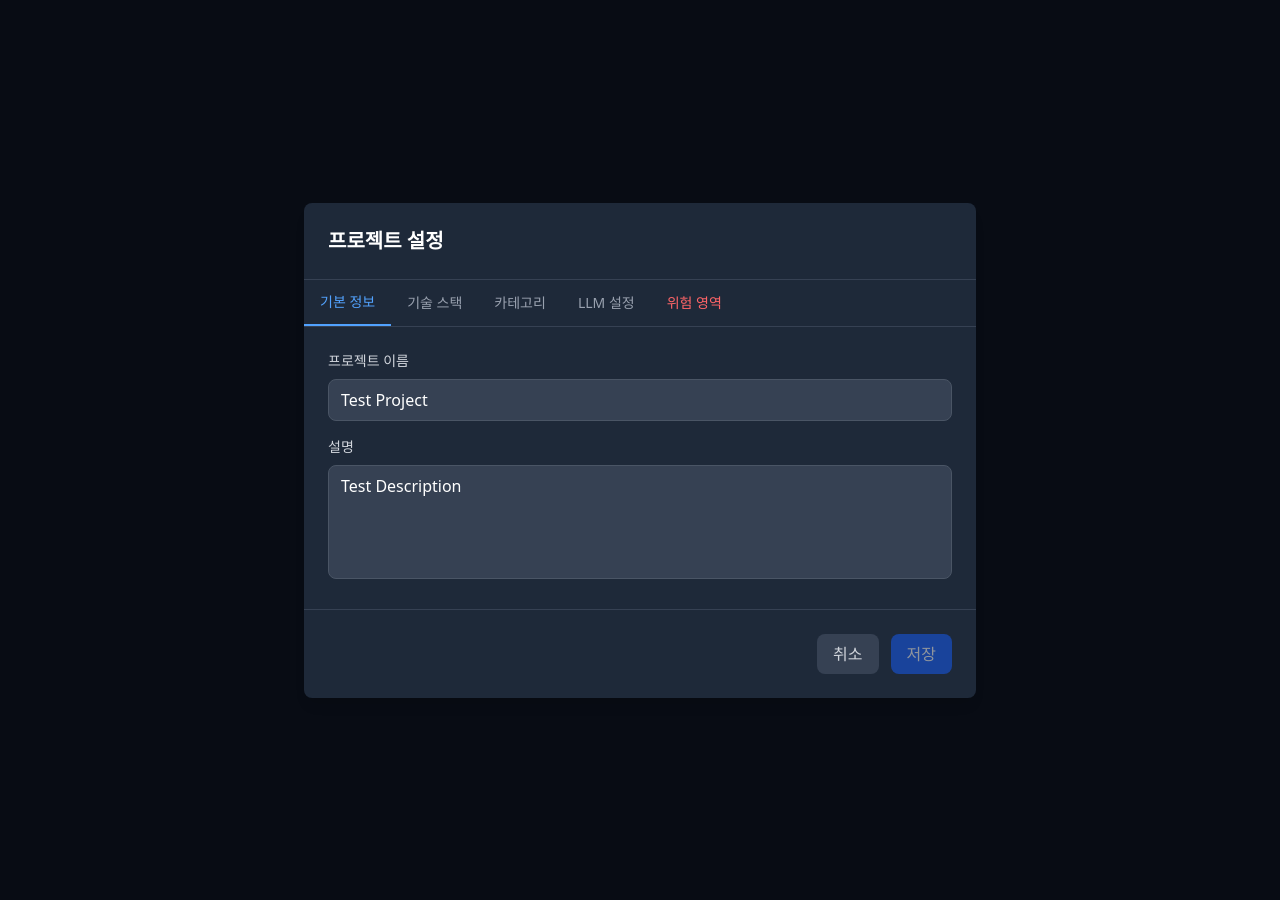
it: ProjectSettingsModal › Tech Stack Tab › should add tech stack when using suggestion button
The image size is (1280, 900).
Step 1. Click the tab "기술 스택" → (435, 302), box [391,280,478,326]
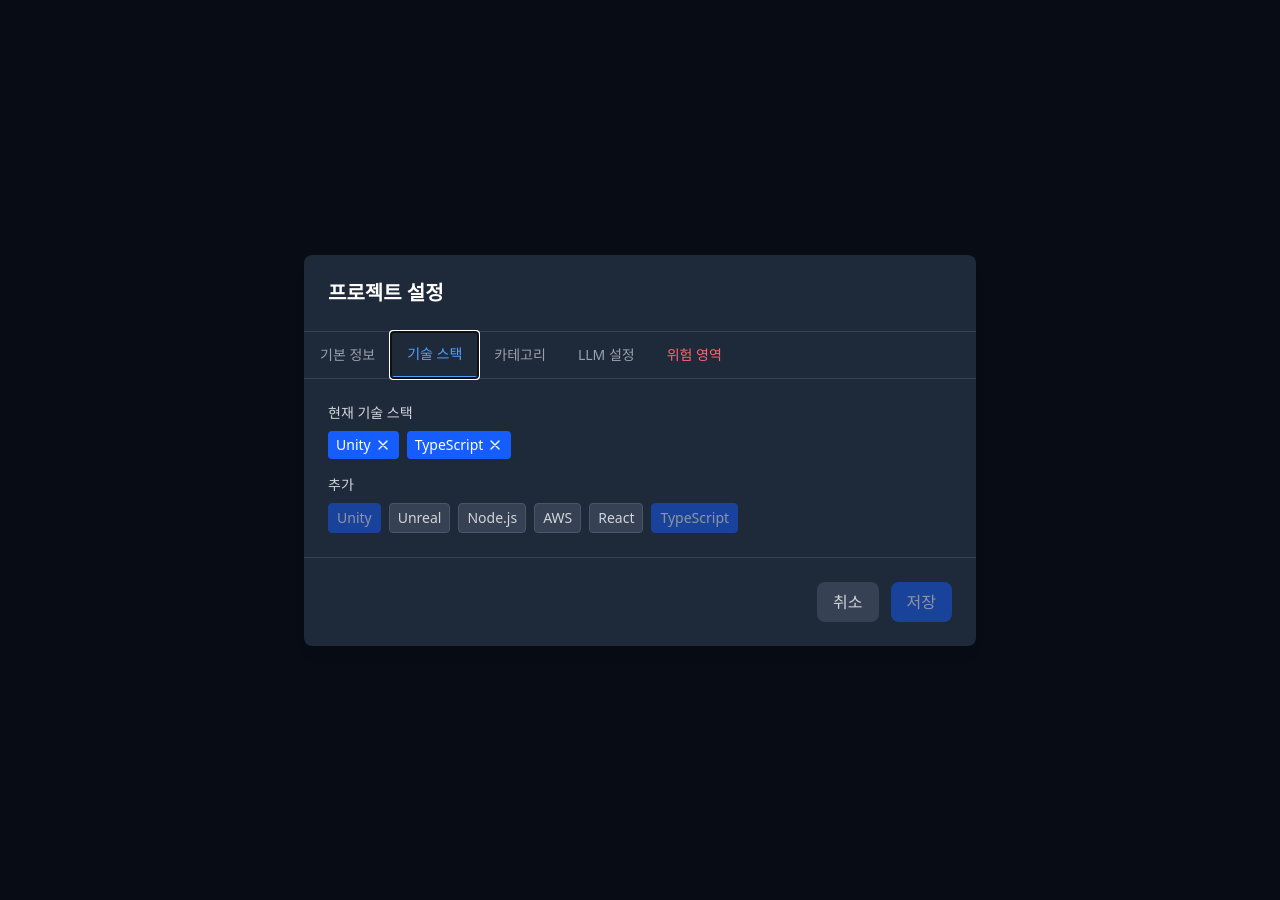
Step 2. Click the button with aria-label "add React" → (616, 518), box [589,502,643,532]
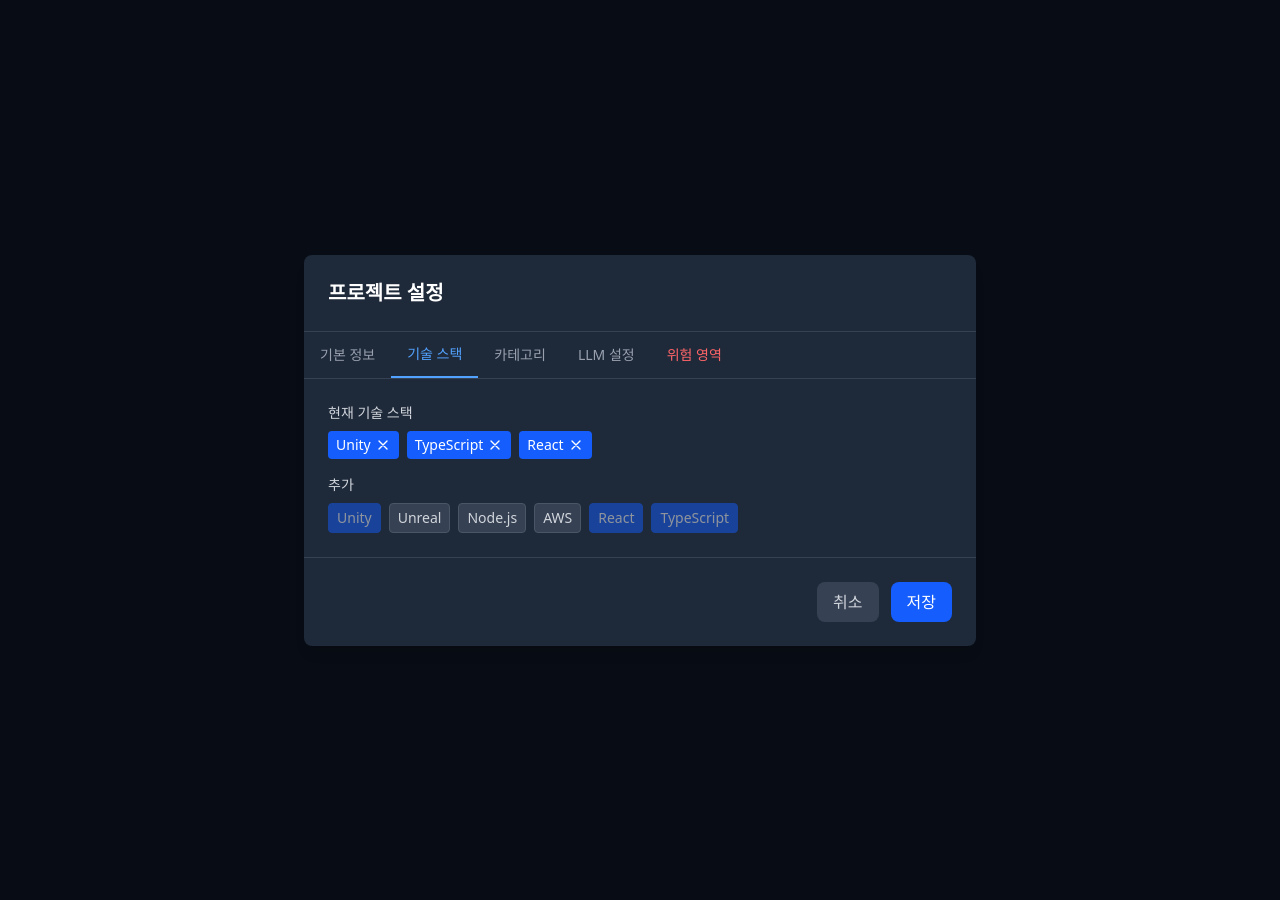
Now the button named "remove React" is shown, box [568,436,584,452]
